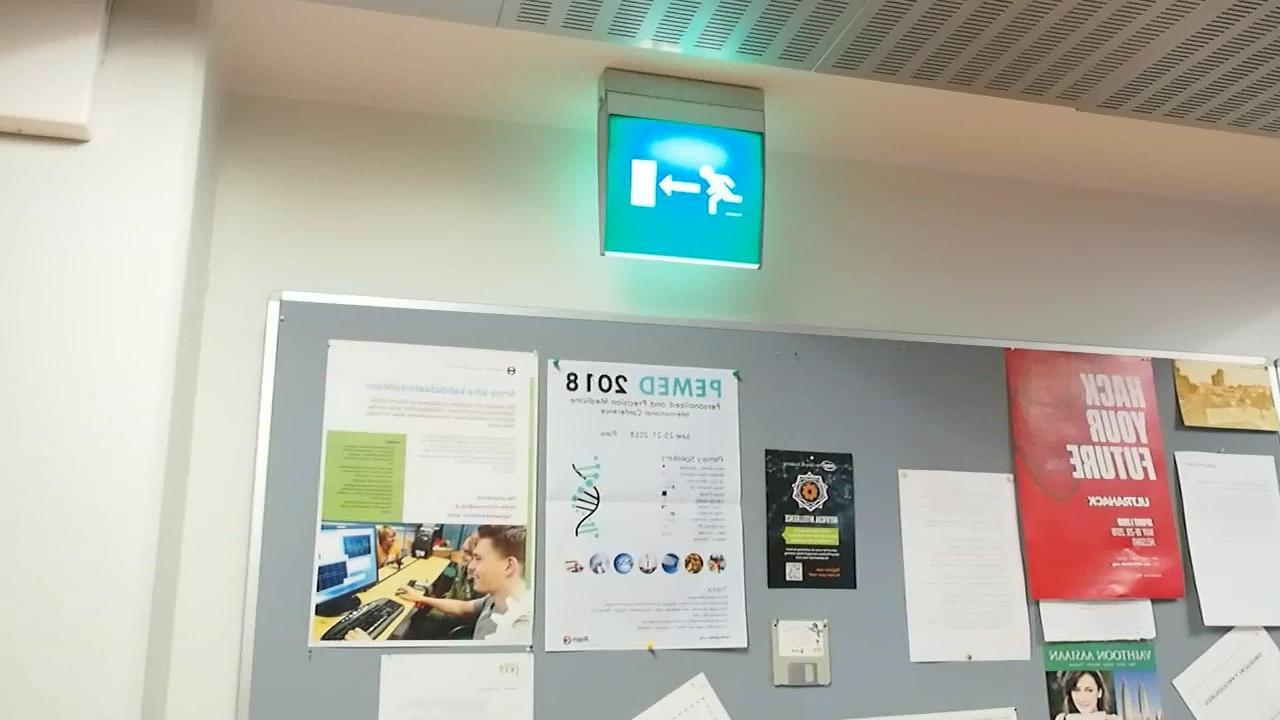exit: (600, 111, 770, 263)
